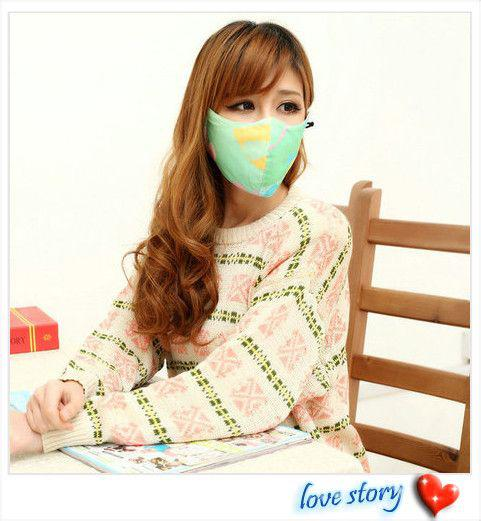OK: (197, 76, 312, 191)
